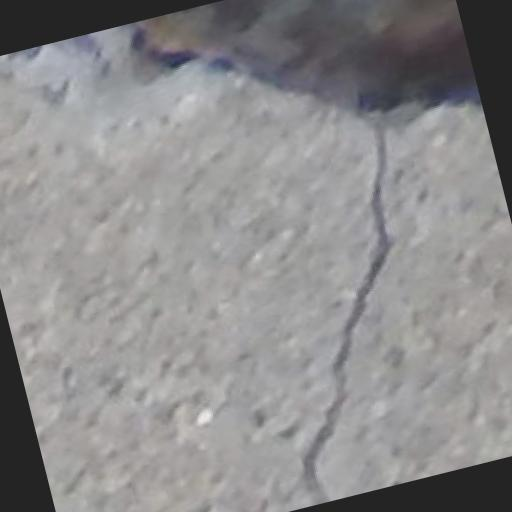spalling: (274, 130, 410, 506)
